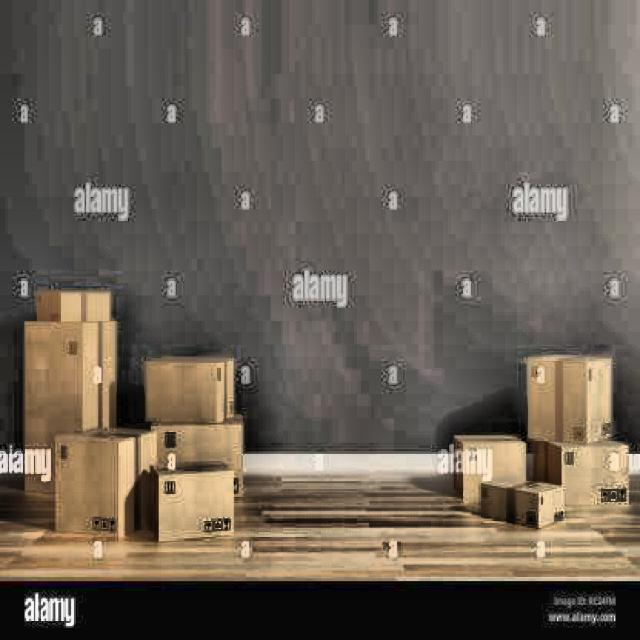Cardbox: (7, 292, 250, 590), (441, 332, 640, 533)
